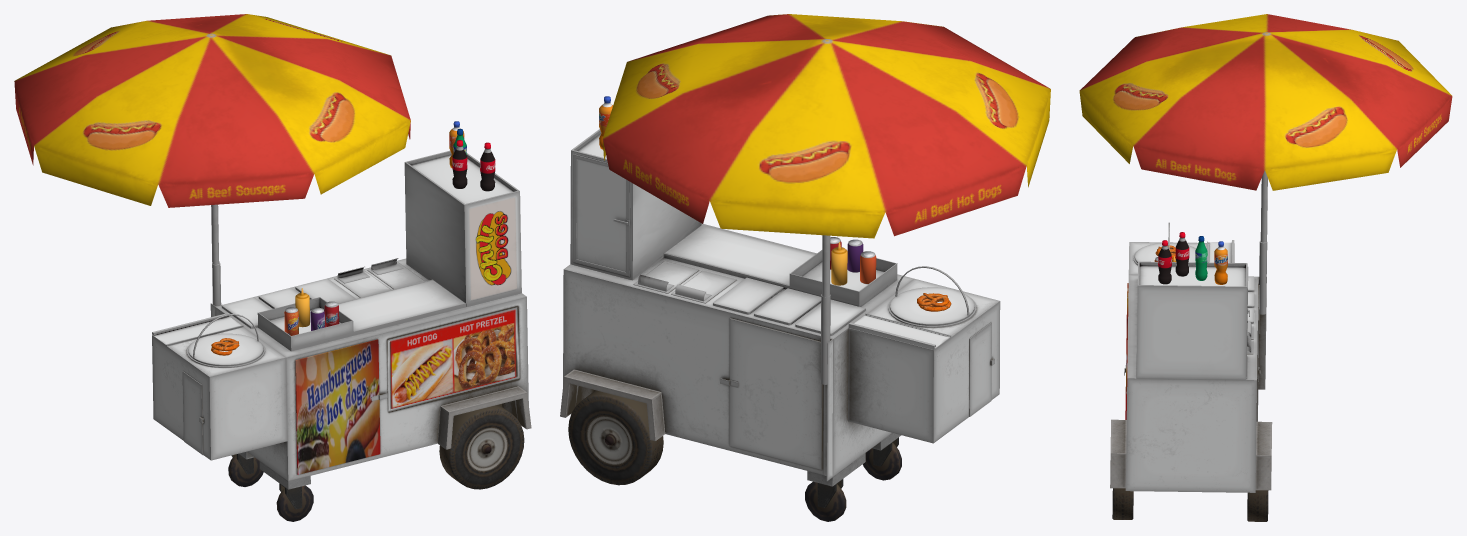
Rendered from puestoHotDog.obj.
The picture shows the model from 3 angles, left to right: view 1: azimuth 30°, elevation 25°; view 2: azimuth 150°, elevation 25°; view 3: azimuth 270°, elevation 25°; orthographic projection. The views are drawn at different scales.
Parts seen in each view (by area): view 1: d02_low, b02_low, b01_low, letrero, b03_low, cabinamodific, e07_low, b05_low, a03_low, b08_low, a05_low, a04_low (+7 smaller); view 2: d02_low, b02_low, b01_low, b07_low, b03_low, e07_low, b05_low, a03_low, cabinamodific, b08_low, a05_low, a04_low (+10 smaller); view 3: d02_low, b02_low, b03_low, b08_low, e07_low, c01_low, d05_low, a04_low, bottle_coca_cola_low_004, bottle_sunkist_low_003, bottle_coca_cola_low_003, d03_low (+2 smaller).
Boxes of the visible parts, bbox=[...] form: d02_low: bbox=[14, 14, 410, 207]; b02_low: bbox=[215, 258, 528, 481]; b01_low: bbox=[152, 327, 287, 460]; letrero: bbox=[295, 339, 380, 474]; b03_low: bbox=[405, 150, 521, 306]; cabinamodific: bbox=[404, 162, 466, 306]; e07_low: bbox=[439, 405, 524, 489]; b05_low: bbox=[258, 279, 465, 351]; a03_low: bbox=[221, 278, 355, 328]; b08_low: bbox=[437, 386, 531, 449]; a05_low: bbox=[257, 297, 353, 347]; a04_low: bbox=[186, 333, 265, 367]; d02_low: bbox=[602, 14, 1050, 238]; b02_low: bbox=[563, 223, 913, 476]; b01_low: bbox=[848, 278, 1000, 443]; b07_low: bbox=[729, 318, 822, 469]; b03_low: bbox=[570, 129, 632, 280]; e07_low: bbox=[568, 390, 663, 485]; b05_low: bbox=[663, 225, 897, 306]; a03_low: bbox=[713, 277, 865, 335]; cabinamodific: bbox=[632, 183, 701, 279]; b08_low: bbox=[560, 369, 665, 441]; a05_low: bbox=[789, 250, 897, 303]; a04_low: bbox=[888, 287, 976, 327]; d02_low: bbox=[1079, 14, 1452, 190]; b02_low: bbox=[1125, 274, 1258, 492]; b03_low: bbox=[1136, 261, 1248, 379]; b08_low: bbox=[1110, 419, 1272, 490]; e07_low: bbox=[1112, 488, 1268, 521]; c01_low: bbox=[1258, 277, 1266, 389]; d05_low: bbox=[1259, 241, 1267, 314]; a04_low: bbox=[1133, 242, 1195, 265]; bottle_coca_cola_low_004: bbox=[1175, 232, 1189, 276]; bottle_sunkist_low_003: bbox=[1214, 241, 1227, 284]; bottle_coca_cola_low_003: bbox=[1158, 240, 1171, 284]; d03_low: bbox=[1260, 170, 1267, 242].
Bounding box in the file's own units: 11.89 × 12.02 × 10.13.
